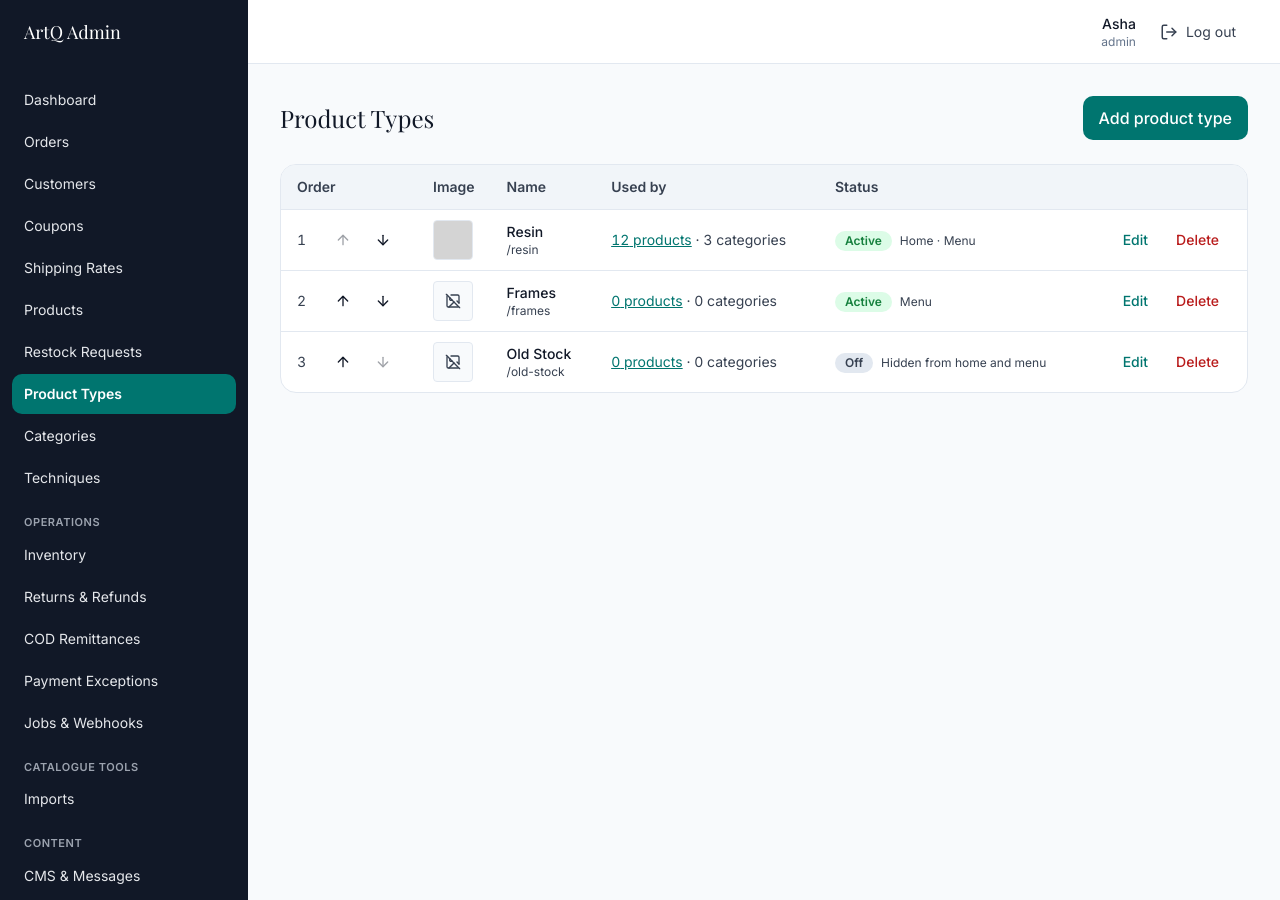
it: Product Types page › edit loads the record and saves changes (a slug change says the old address keeps working)
Check: the text "Resin" is shown, box [507,223,543,240]
Step 1. Click the button with aria-label "Edit Resin" → x=1135, y=240, box [1111,218,1160,262]
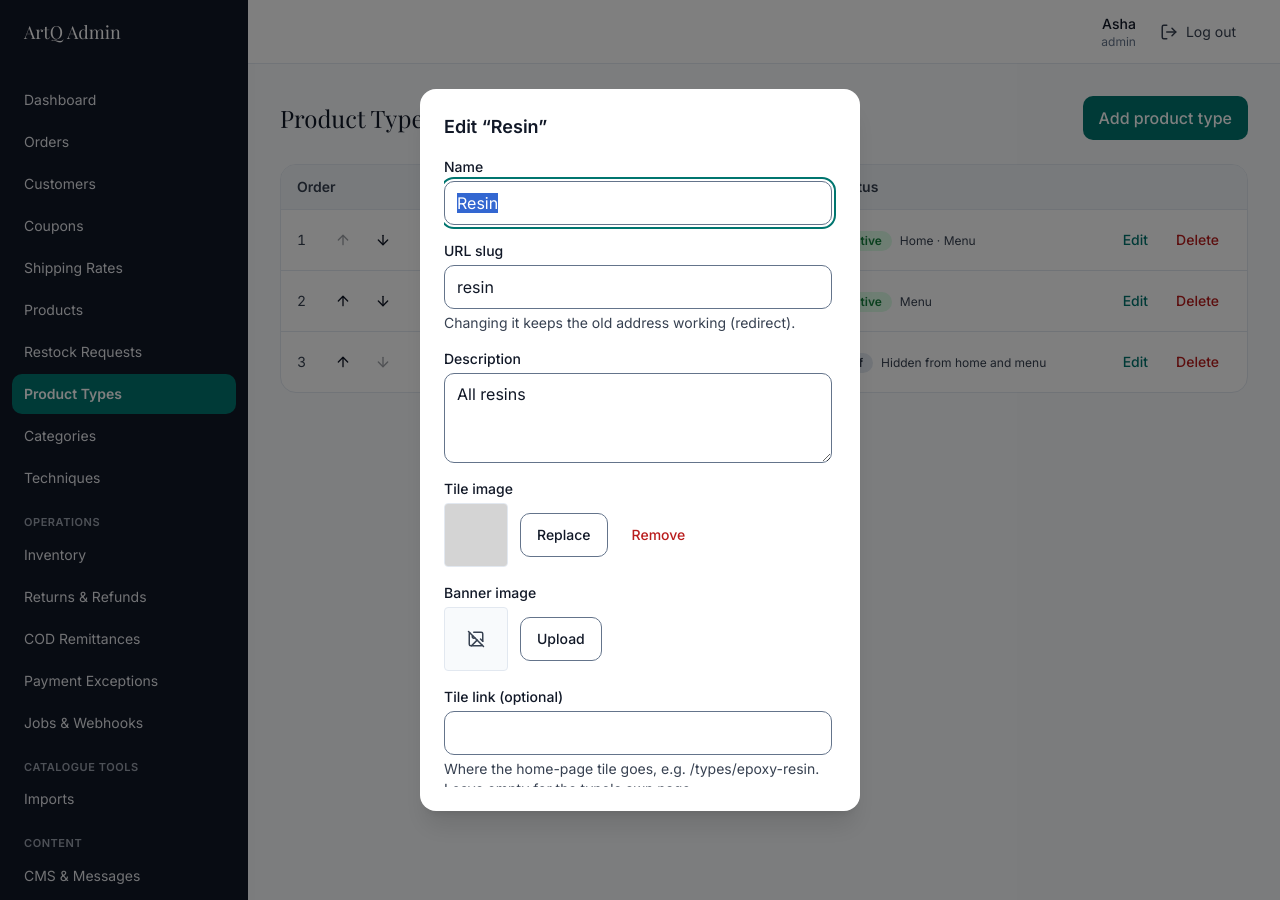
Check: the text "Changing it keeps the old address working (redirect)." is shown, box [444,313,832,333]
Check: the text box labelled "Description" holds "All resins", box [444,373,832,463]
Step 2. Replace the text in the field labelled "URL slug" with "resins" → x=638, y=287, box [444,265,832,309]
(page scrolled)
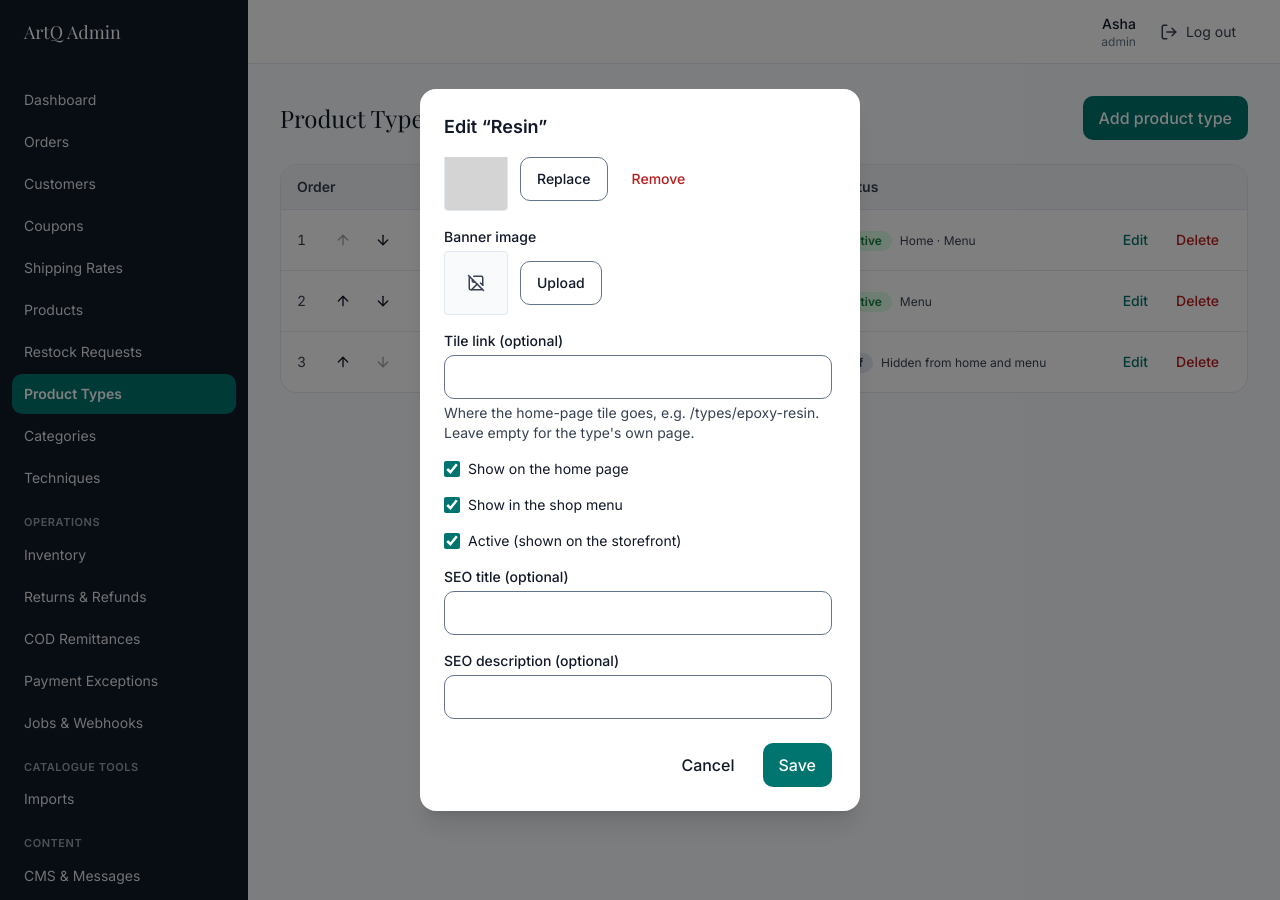
Step 3. Click the button "Save" → x=797, y=765, box [762,743,832,787]
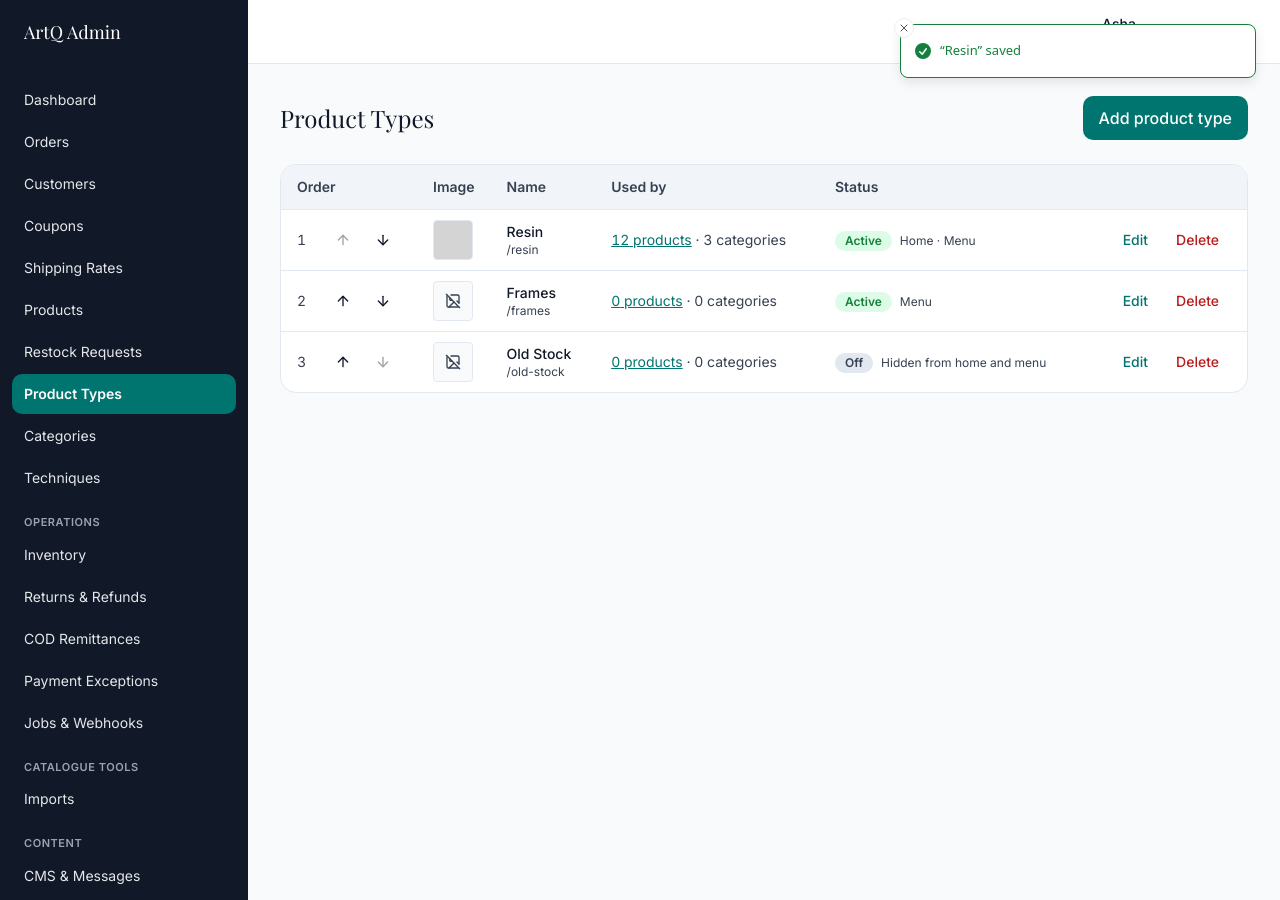
Check: the text "“Resin” saved" is shown, box [940,41,1021,60]
